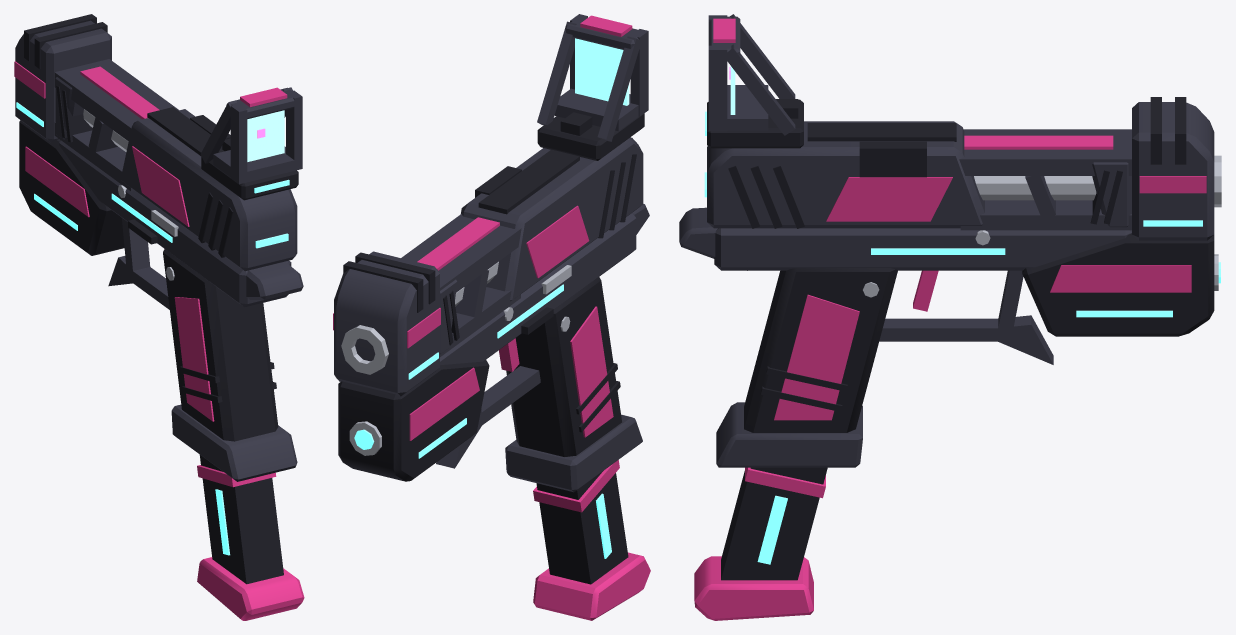
The model's file is PhantomSidewind.glb.
3 renders of one model, left to right at view 1: azimuth 30°, elevation 25°; view 2: azimuth 150°, elevation 25°; view 3: azimuth 270°, elevation 25°, orthographic. The views are drawn at different scales.
Visible parts, largest first — view 1: Grip, SlideRear, Mag, UnderModule, Frame, Compensator, Magwell, MagPlate, SlideTopBar, GripInlay, SlidePlate, Beavertail (+24 smaller); view 2: Grip, Compensator, SlideRear, UnderModule, Mag, Frame, Magwell, MagPlate, SlideTopBar, GripInlay, TopRib, SightLens (+26 smaller); view 3: SlideRear, Frame, Grip, UnderModule, Compensator, Mag, GripInlay, Magwell, SlideTopBar, MagPlate, SlidePlate, ModulePlate (+23 smaller).
Part boxes in pixels (box(x1,y1,x2,y2)): Grip: box(163, 249, 278, 441); SlideRear: box(120, 109, 297, 271); Mag: box(199, 455, 283, 584); UnderModule: box(19, 120, 124, 255); Frame: box(59, 140, 291, 307); Compensator: box(15, 20, 111, 142); Magwell: box(171, 404, 297, 481); MagPlate: box(197, 557, 304, 620); SlideTopBar: box(54, 59, 178, 141); GripInlay: box(174, 297, 214, 421); SlidePlate: box(132, 146, 189, 226); Beavertail: box(246, 261, 303, 299); Grip: box(506, 277, 621, 456); Compensator: box(334, 251, 439, 396); SlideRear: box(461, 137, 643, 301); UnderModule: box(338, 359, 489, 481); Mag: box(536, 471, 628, 584); Frame: box(440, 212, 636, 365); Magwell: box(505, 414, 642, 492); MagPlate: box(533, 552, 650, 620); SlideTopBar: box(401, 214, 521, 292); GripInlay: box(570, 306, 613, 437); TopRib: box(478, 149, 579, 214); SightLens: box(575, 38, 629, 105); SlideRear: box(707, 121, 984, 228); Frame: box(714, 228, 1131, 270); Grip: box(744, 268, 897, 432); UnderModule: box(1022, 233, 1214, 336); Compensator: box(1132, 102, 1214, 240); Mag: box(721, 467, 827, 580); GripInlay: box(774, 294, 859, 420); Magwell: box(716, 402, 862, 467); SlideTopBar: box(959, 129, 1131, 175); MagPlate: box(694, 556, 813, 620); SlidePlate: box(826, 177, 952, 221); ModulePlate: box(1050, 265, 1191, 292).
Size of the model in its own units: 0.238 by 1.71 by 1.45.
